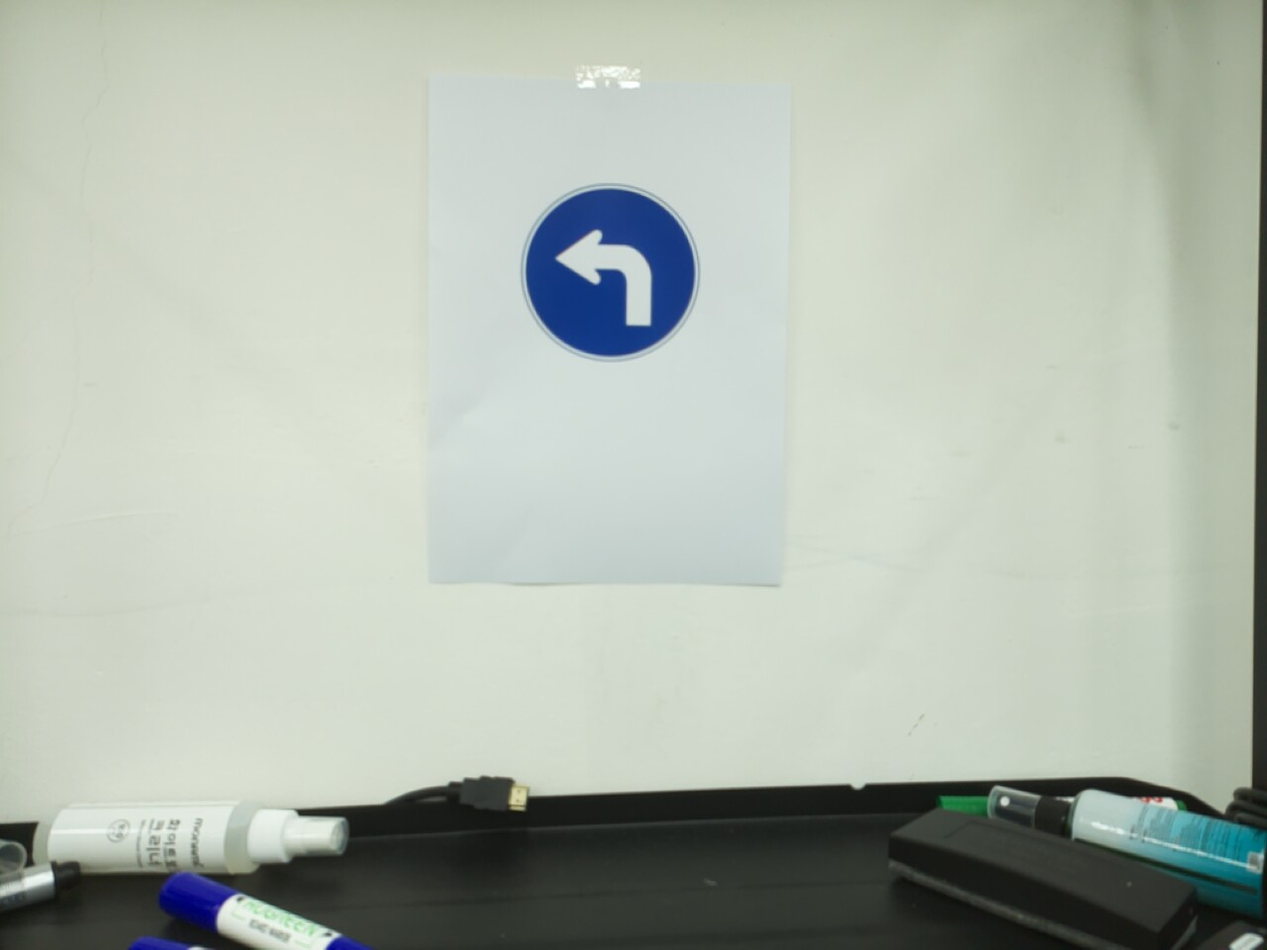left_turn: (519, 181, 702, 364)
